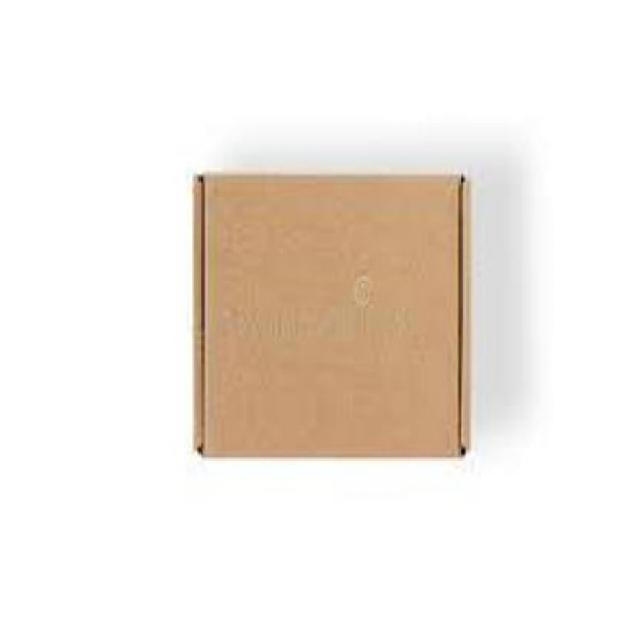normal: (183, 168, 480, 463)
